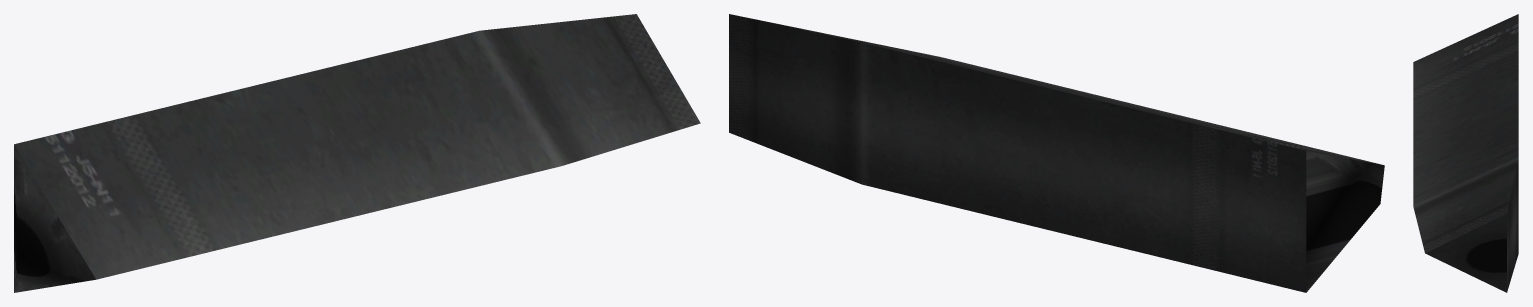
The model's file is t6_attach_shotgun_silencer2_world_LOD2.obj.
The picture shows the model from 3 angles, left to right: view 1: azimuth 30°, elevation 25°; view 2: azimuth 150°, elevation 25°; view 3: azimuth 270°, elevation 25°; orthographic projection. The views are drawn at different scales.
Parts seen in each view (by area): view 1: mtl_t6_attach_shotgun_silencer1; view 2: mtl_t6_attach_shotgun_silencer1; view 3: mtl_t6_attach_shotgun_silencer1.
Part boxes in pixels (box(x1,y1,x2,y2)): mtl_t6_attach_shotgun_silencer1: box(14, 14, 700, 292); mtl_t6_attach_shotgun_silencer1: box(729, 14, 1384, 292); mtl_t6_attach_shotgun_silencer1: box(1413, 14, 1518, 292).
Bounding box in the file's own units: 23.87 × 5.22 × 5.23.
